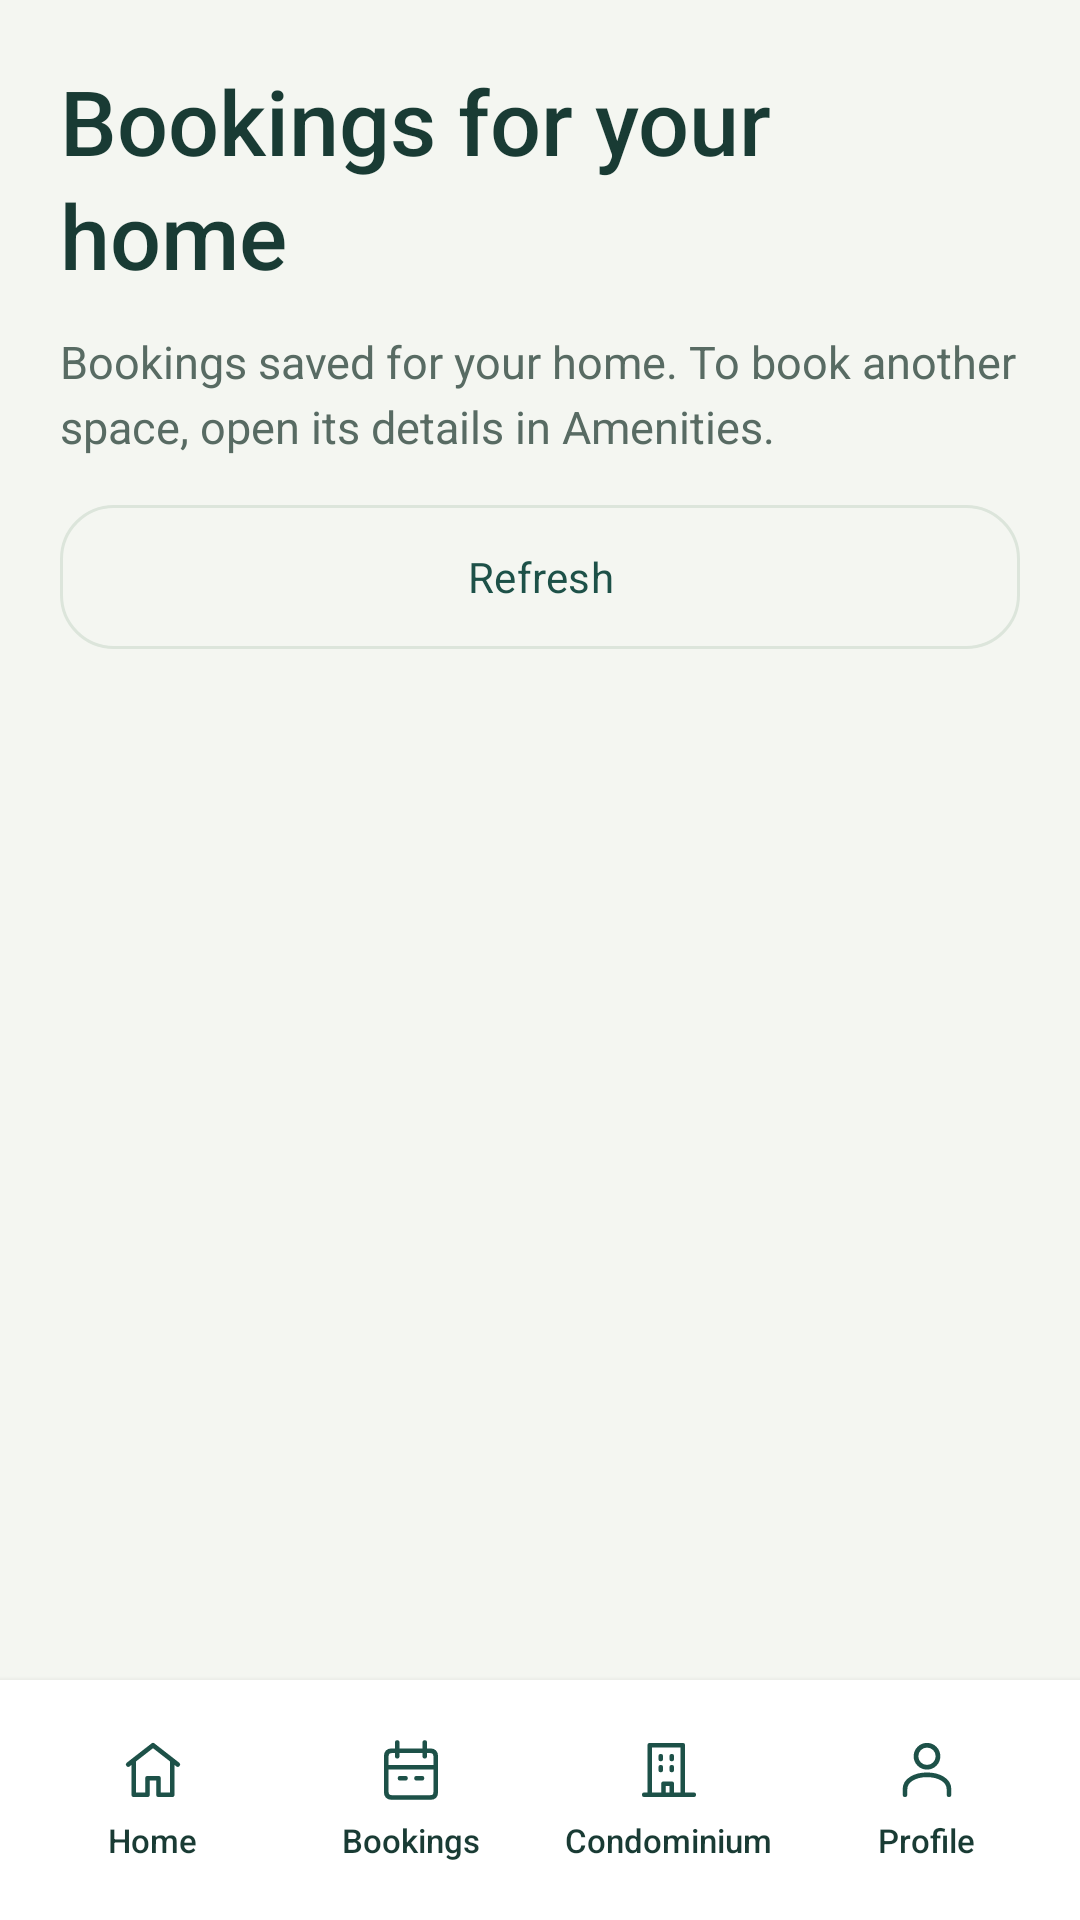

Where icons sit on this 1080x1920 app screen, as (x1, y1, x2, y2):
building: (642, 1743, 696, 1797)
calendar: (384, 1740, 438, 1800)
person: (902, 1743, 952, 1797)
